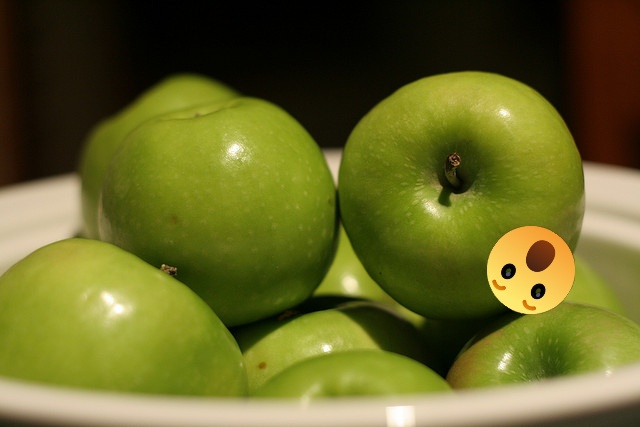wow: (487, 226, 575, 314)
